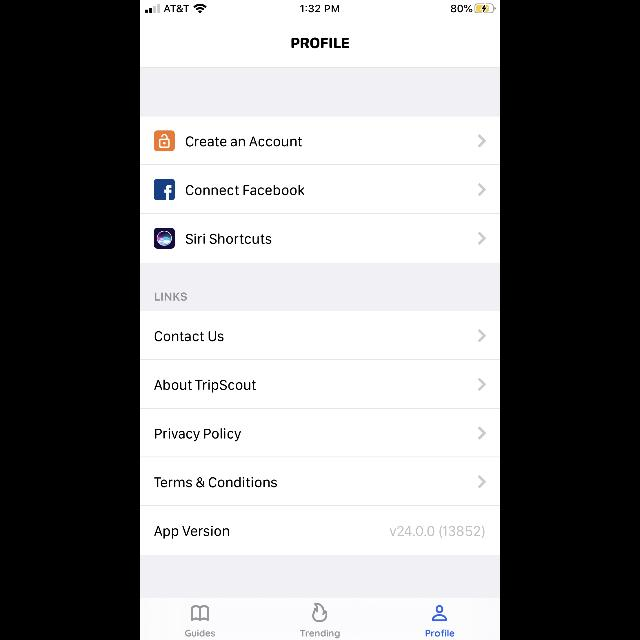icon: (154, 130, 176, 152), (153, 180, 174, 200), (190, 605, 210, 621), (432, 605, 448, 621), (478, 134, 486, 148), (478, 426, 486, 439), (478, 184, 486, 196), (478, 232, 486, 244), (478, 330, 486, 342), (478, 378, 486, 390), (478, 476, 486, 488)
image: (155, 228, 175, 248), (312, 602, 328, 622)
text: (154, 477, 278, 488), (154, 380, 256, 392), (155, 428, 241, 442), (186, 185, 304, 195), (186, 136, 302, 146), (390, 526, 484, 538), (154, 526, 230, 538), (186, 234, 272, 244), (155, 331, 223, 342), (292, 38, 348, 48), (300, 630, 340, 638), (155, 293, 187, 301), (185, 630, 215, 636), (426, 630, 454, 636)
uppertaskbar: (140, 0, 500, 14)
